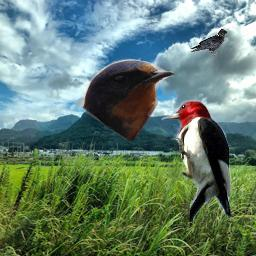Crow: (189, 29, 228, 56)
Swallow: (81, 58, 177, 141)
Woodpecker: (160, 100, 233, 222)
